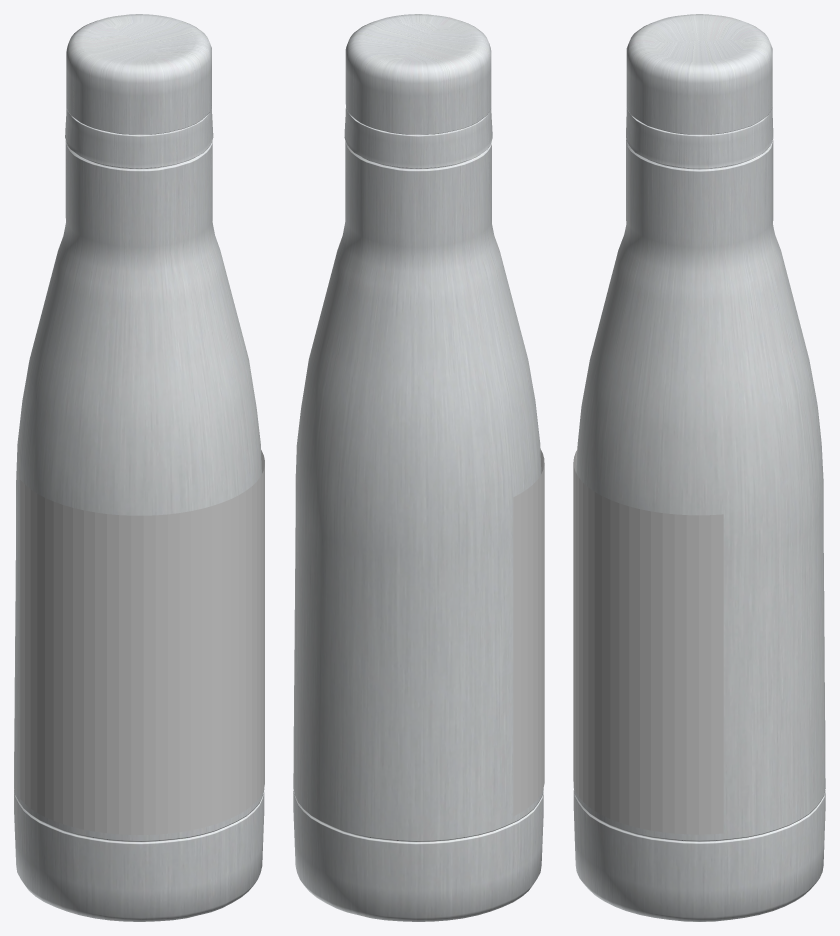
Rendered from bottle-webshop.glb.
3 views of the same model, side by side, from view 1: azimuth 30°, elevation 25°; view 2: azimuth 150°, elevation 25°; view 3: azimuth 270°, elevation 25° (orthographic).
Visible parts, largest first — view 1: bottle-body, print_area; view 2: bottle-body, print_area; view 3: bottle-body, print_area.
Part boxes in pixels (x1=…): bottle-body: x1=14, y1=14, x2=264, y2=921; print_area: x1=20, y1=450, x2=264, y2=834; bottle-body: x1=293, y1=14, x2=543, y2=921; print_area: x1=513, y1=449, x2=544, y2=816; bottle-body: x1=573, y1=14, x2=825, y2=921; print_area: x1=573, y1=450, x2=723, y2=834.
Bounding box in the file's own units: 0.0767 × 0.2809 × 0.077.
2 materials, 1 textured.
